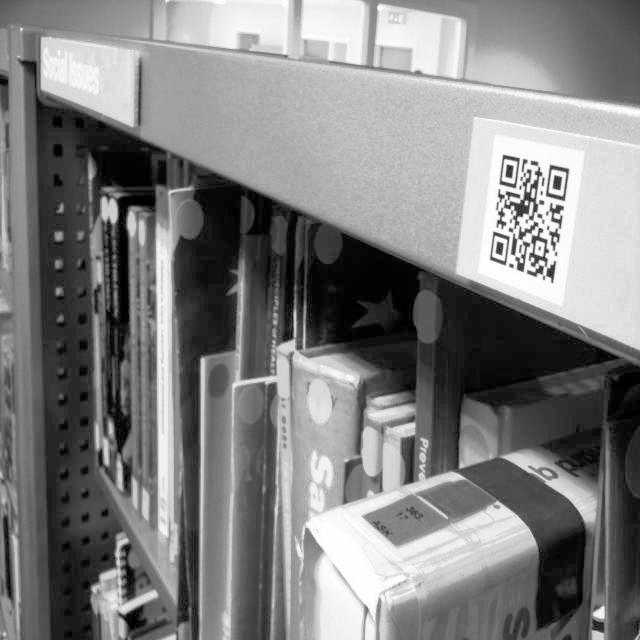qr_code: (490, 155, 570, 284)
